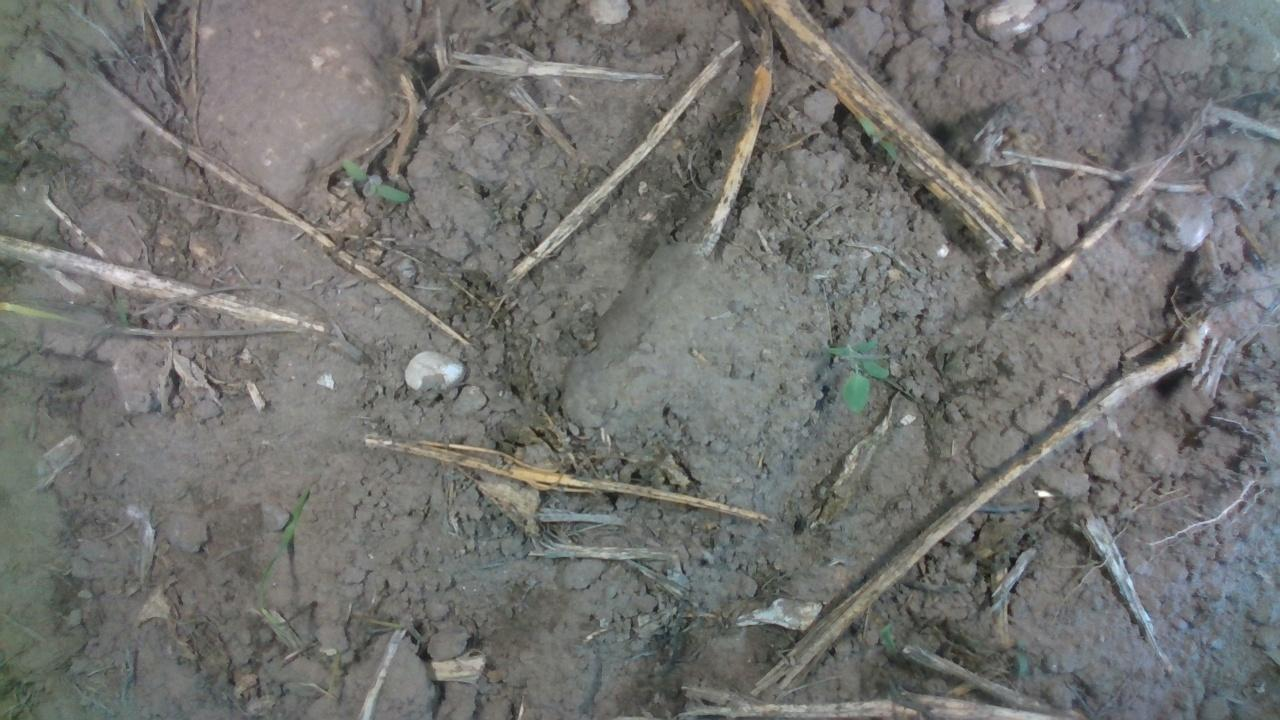weed: (339, 154, 411, 201)
